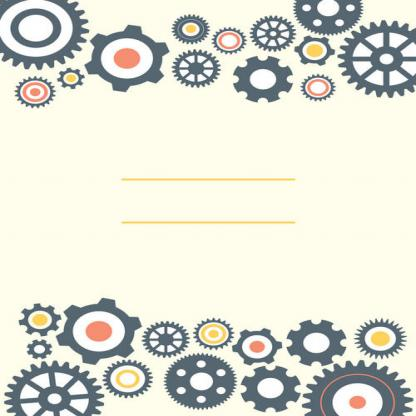FOD: (335, 19, 415, 102), (299, 358, 415, 415), (0, 0, 89, 72)
